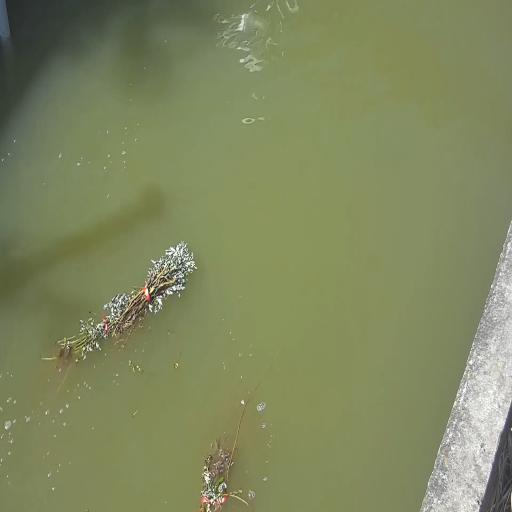twig: (42, 241, 197, 362), (201, 348, 281, 511)
